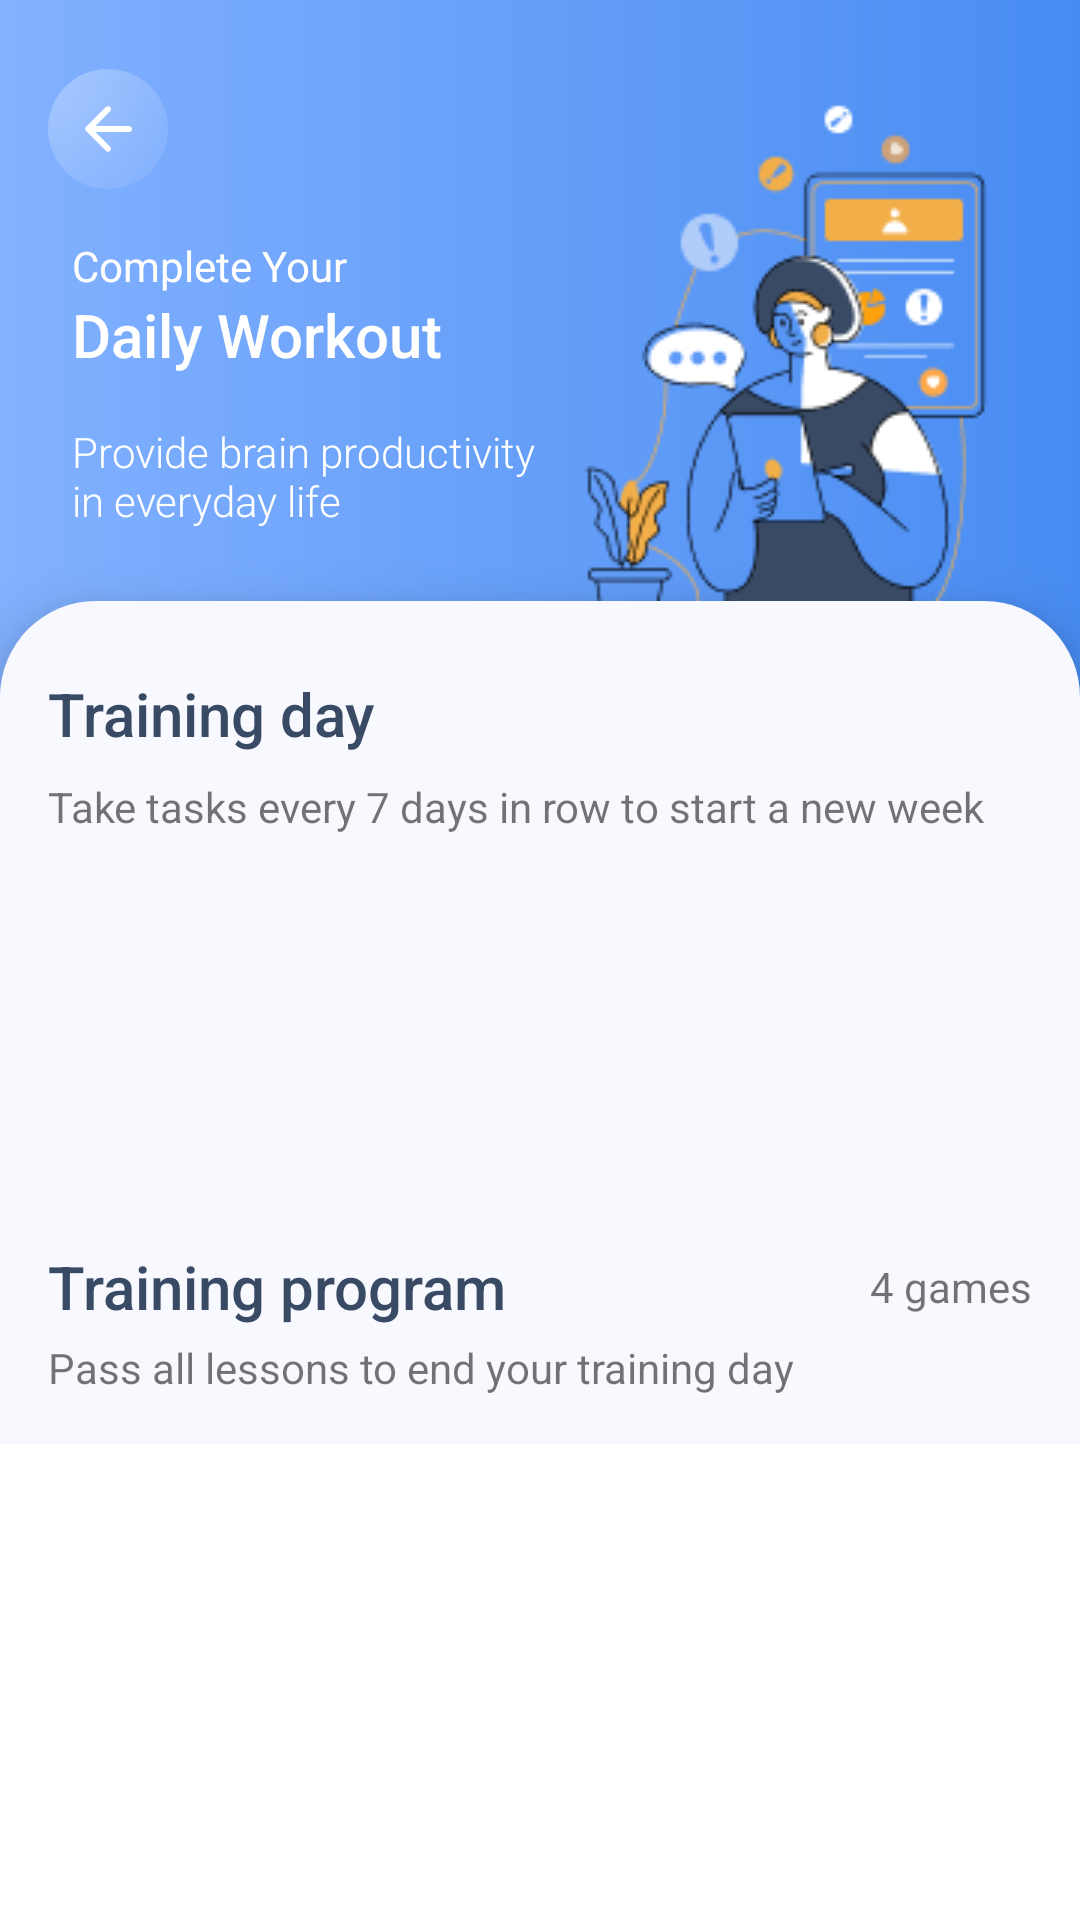

Screen size 1080*1920. Icon name, then its box in pixels as (x1, y1, x2, y2):
back: (48, 69, 132, 166)
